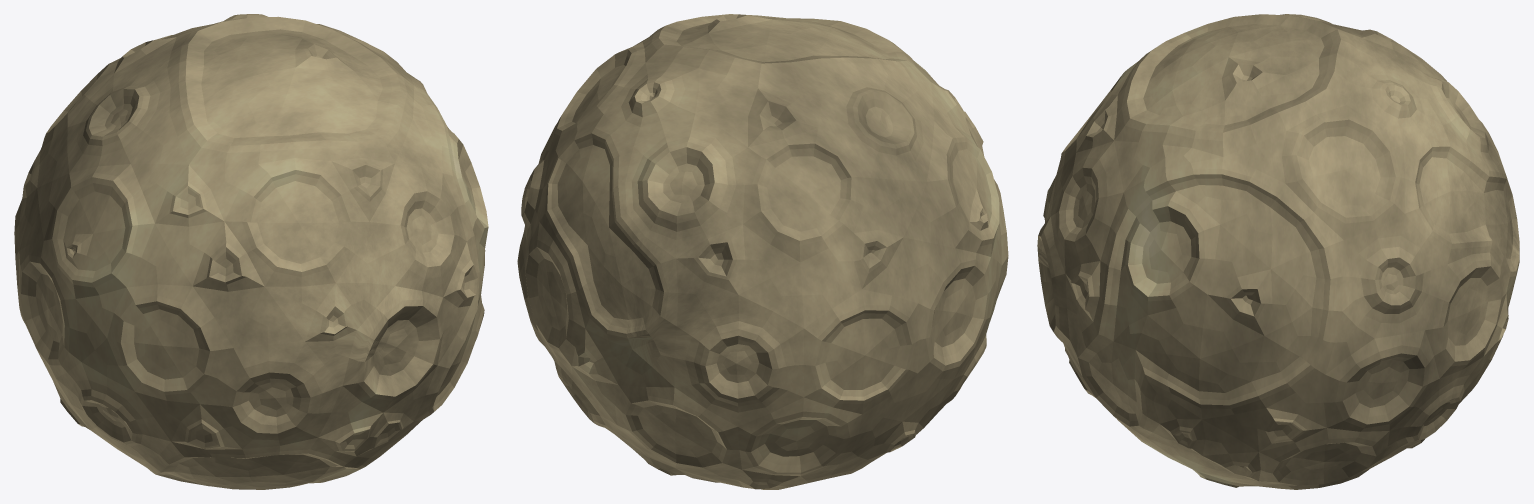
The model's file is Moon.obj.
3 views of the same model, side by side, from view 1: azimuth 30°, elevation 25°; view 2: azimuth 150°, elevation 25°; view 3: azimuth 270°, elevation 25° (orthographic).
Visible parts, largest first — view 1: 1226_Moon; view 2: 1226_Moon; view 3: 1226_Moon.
Part boxes in pixels (x1=…): 1226_Moon: x1=14, y1=14, x2=488, y2=489; 1226_Moon: x1=517, y1=14, x2=1008, y2=489; 1226_Moon: x1=1037, y1=14, x2=1519, y2=489.
Bounding box in the file's own units: 74.23 × 73.97 × 75.95.
